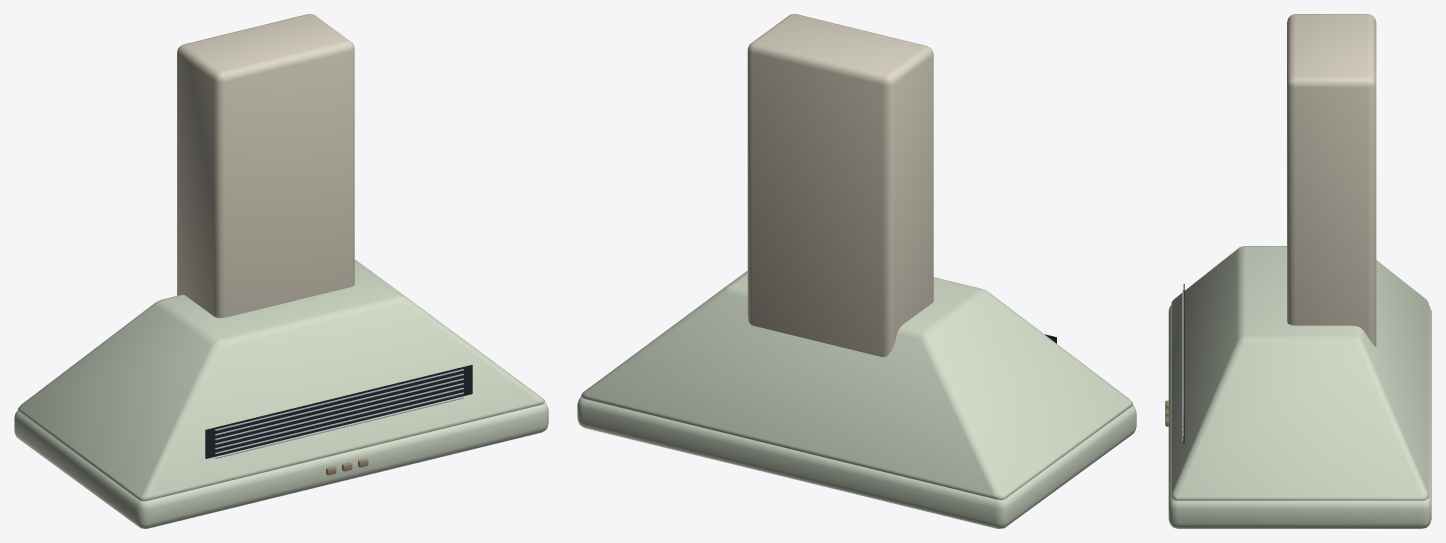
File: chimney-hood.glb
3 renders of one model, left to right at view 1: azimuth 30°, elevation 25°; view 2: azimuth 150°, elevation 25°; view 3: azimuth 270°, elevation 25°, orthographic. The views are drawn at different scales.
Parts seen in each view (by area): view 1: catalog_surface_RealismUV; view 2: catalog_surface_RealismUV; view 3: catalog_surface_RealismUV.
Boxes of the visible parts, bbox=[...] form: catalog_surface_RealismUV: bbox=[14, 14, 548, 528]; catalog_surface_RealismUV: bbox=[577, 14, 1136, 528]; catalog_surface_RealismUV: bbox=[1168, 14, 1431, 528].
Size of the model in its own units: 0.9 by 0.8 by 0.5.
